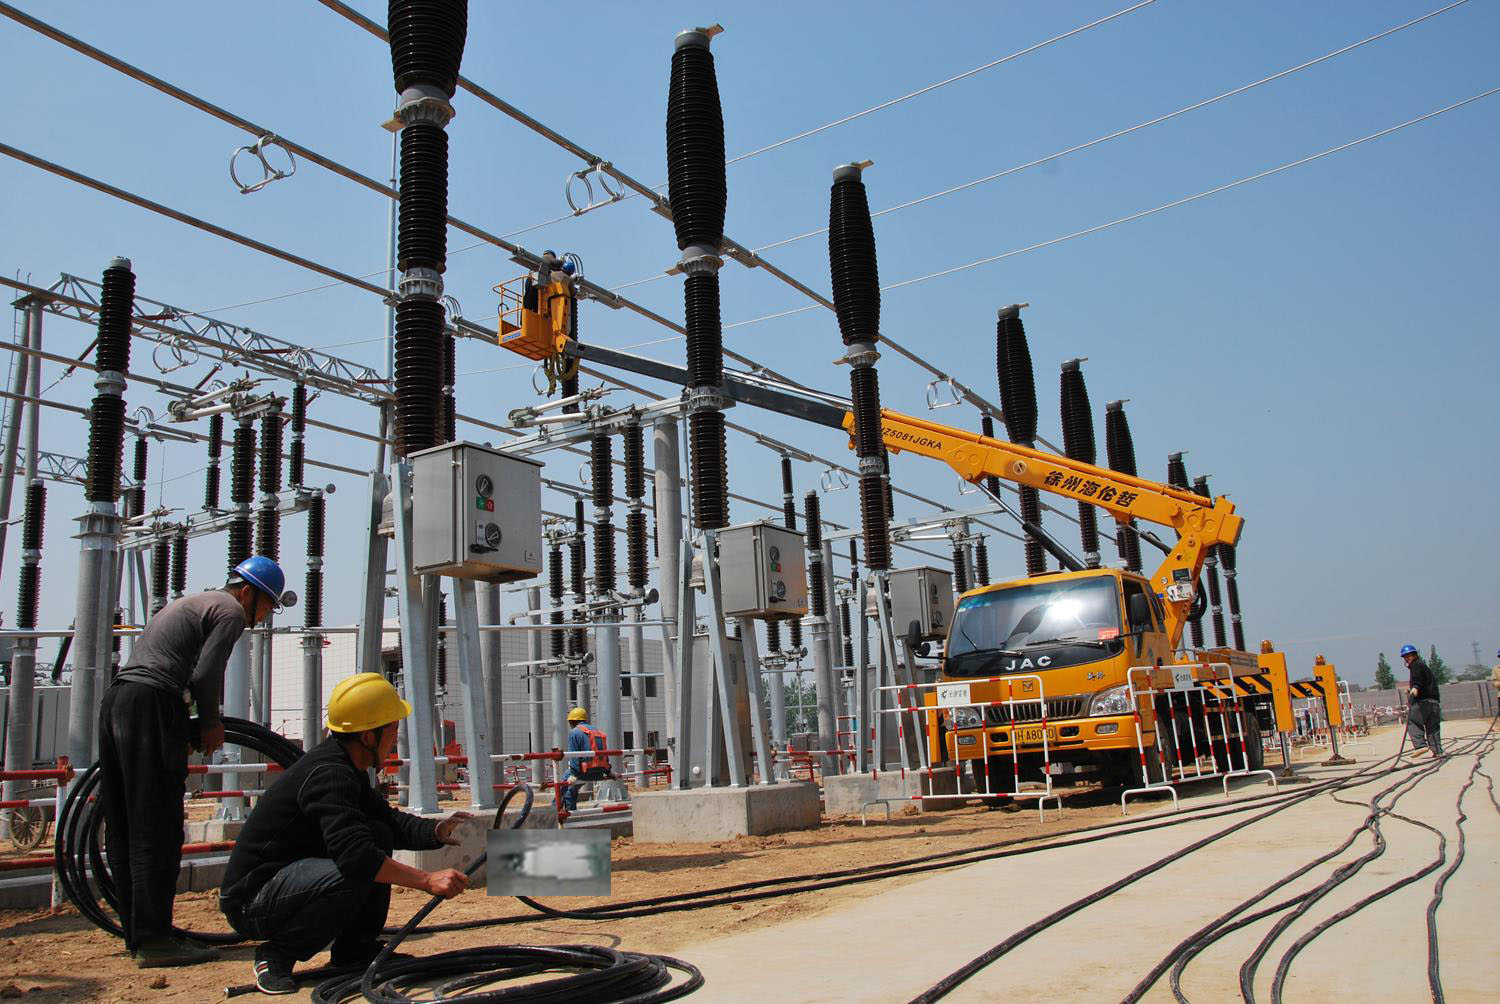oil: (484, 828, 614, 893)
